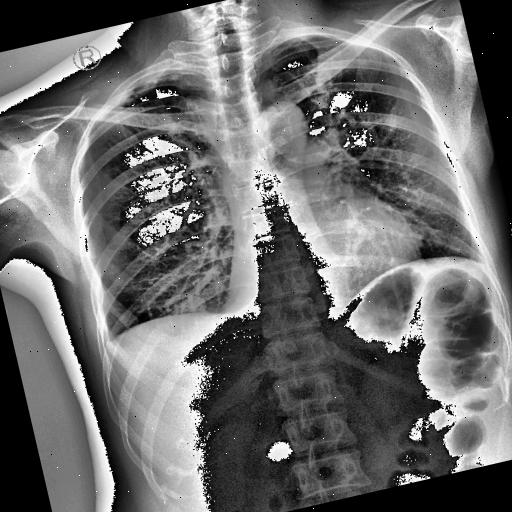10- Pleural effusion: (88, 322, 132, 358), (96, 331, 123, 358)
11- Pleural thickening: (82, 53, 207, 115), (102, 62, 190, 113)
9- Other lesion: (184, 152, 222, 190)
